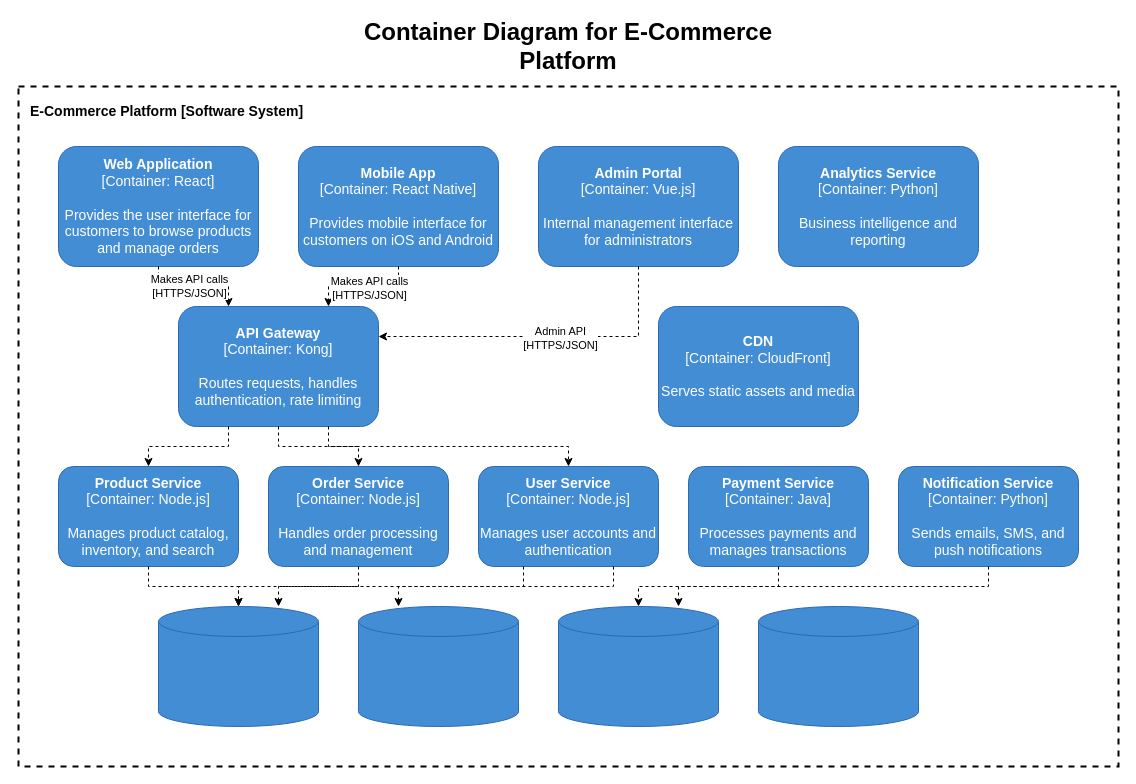
Some shapes in this 1136 by 784 pixel diagram are drawn without their labels. Each missing label, with the centre of its shape:
Cache [Container: Redis] Session storage and caching: pixel 438 666
Main Database [Container: PostgreSQL] Stores user, product, and order data: pixel 238 666
Message Queue [Container: RabbitMQ] Handles async communication: pixel 638 666
Object Storage [Container: S3] Stores product images and files: pixel 838 666
